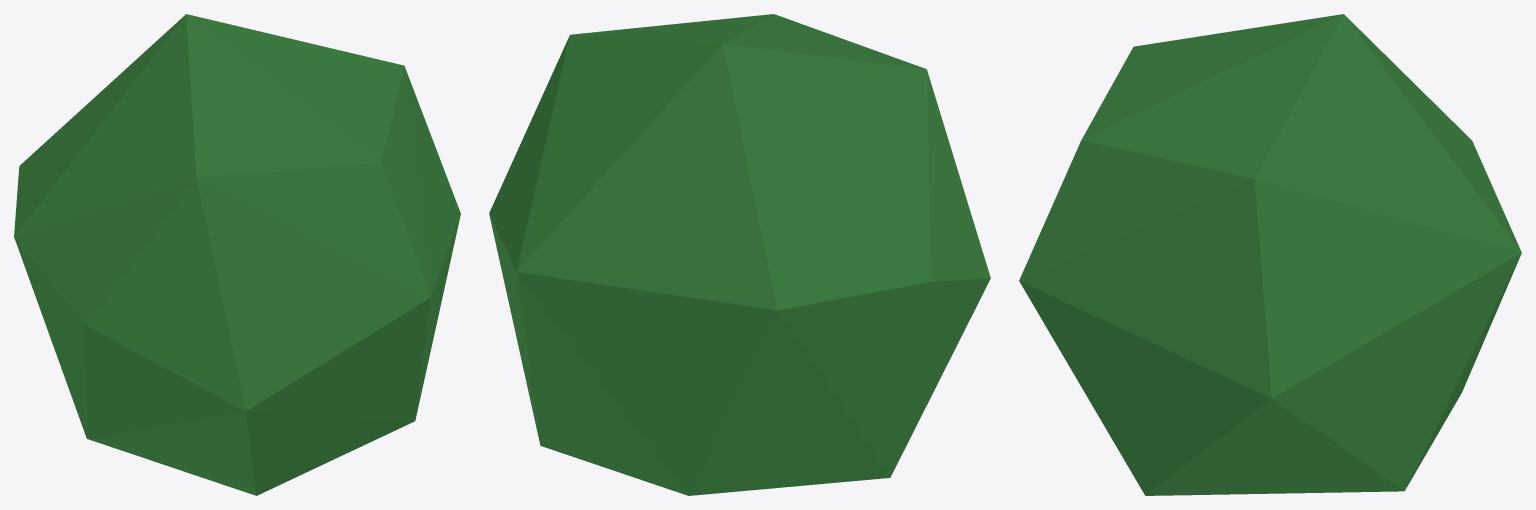
The model's file is shrub.glb.
3 views of the same model, side by side, from view 1: azimuth 30°, elevation 25°; view 2: azimuth 150°, elevation 25°; view 3: azimuth 270°, elevation 25° (orthographic). The views are drawn at different scales.
Parts seen in each view (by area): view 1: shrub; view 2: shrub; view 3: shrub.
Part boxes in pixels (box(x1,y1,x2,y2)): shrub: box(14, 14, 460, 495); shrub: box(489, 14, 990, 495); shrub: box(1019, 14, 1521, 495).
Bounding box in the file's own units: 1.5 × 1.48 × 1.43.
1 material, 1 textured.
